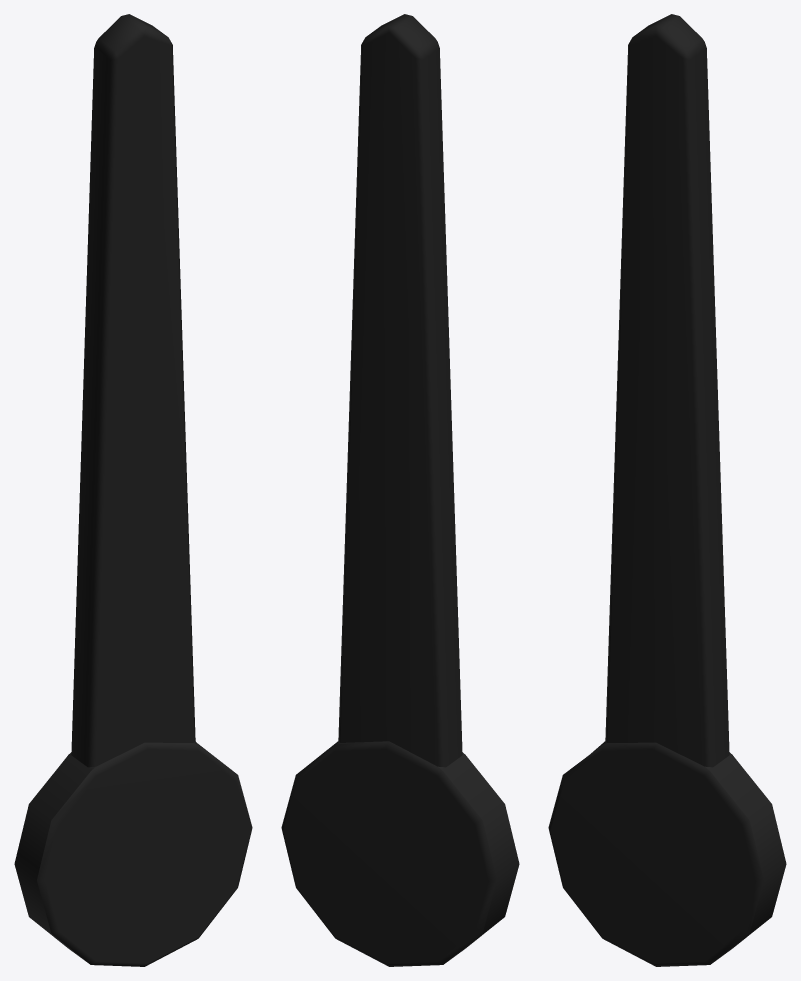
The model's file is Chess_Clock_MinuteHand_02.fbx.
3 views of the same model, side by side, from view 1: azimuth 30°, elevation 25°; view 2: azimuth 150°, elevation 25°; view 3: azimuth 330°, elevation 25° (orthographic).
Visible parts, largest first — view 1: Chess_Clock_MinuteHand_02; view 2: Chess_Clock_MinuteHand_02; view 3: Chess_Clock_MinuteHand_02.
Boxes of the visible parts, x1,y1,x2,y2 form: Chess_Clock_MinuteHand_02: [14, 14, 252, 966]; Chess_Clock_MinuteHand_02: [281, 14, 519, 966]; Chess_Clock_MinuteHand_02: [548, 14, 786, 966].
Bounding box in the file's own units: 0.4996 × 2.08 × 0.1152.
